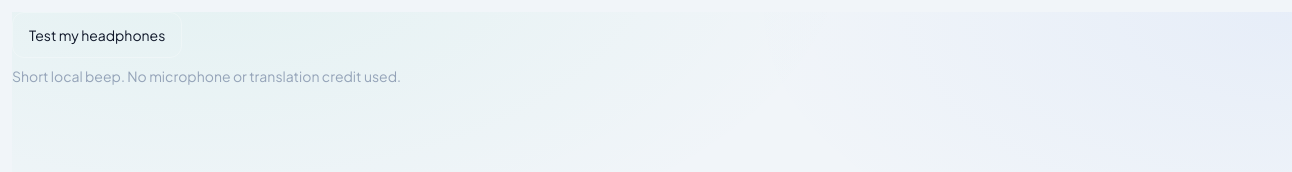
headphone test plays locally and releases its audio context
Click the button "Test my headphones" at (97, 35), box [12, 12, 182, 58]
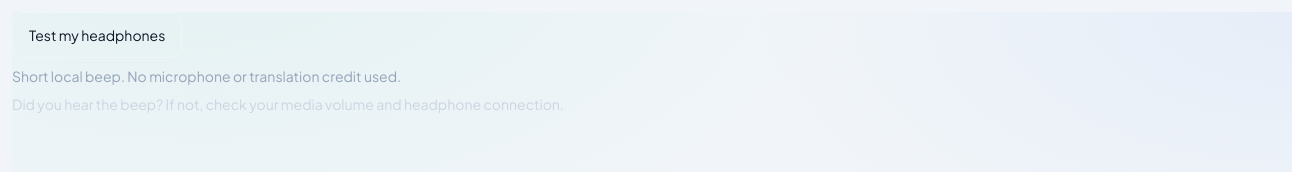
Expected: the message shows "Did you hear", [12, 95, 564, 113]
